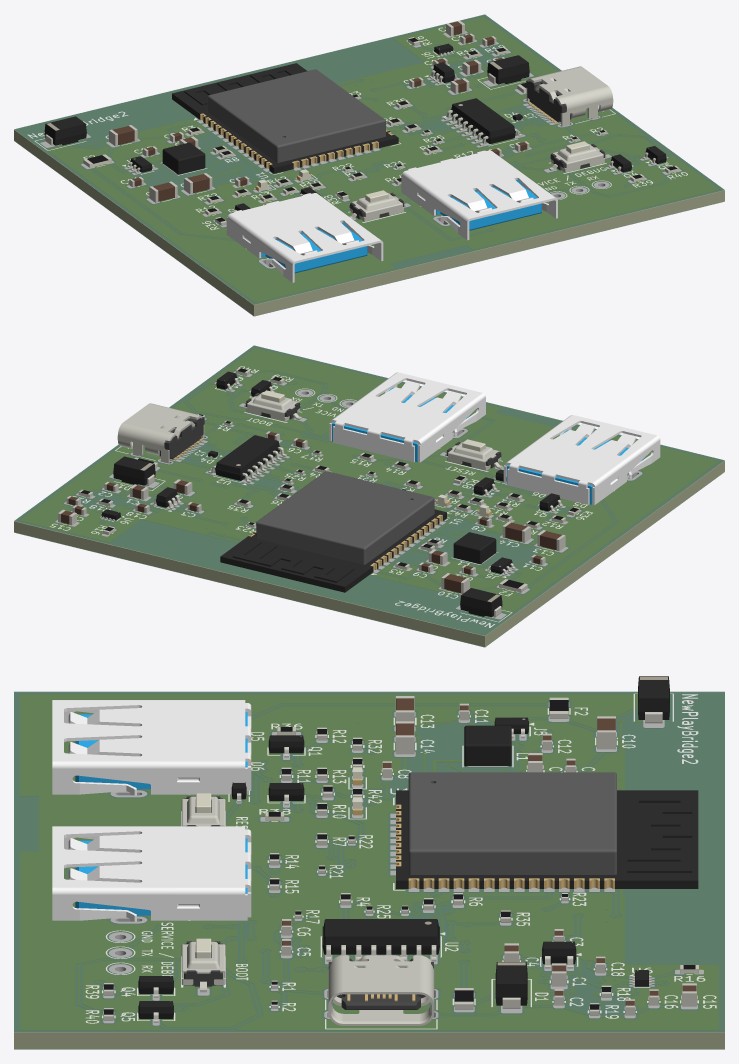
Rendered from board.glb.
The picture shows the model from 3 angles, top to bottom: view 1: azimuth 30°, elevation 25°; view 2: azimuth 150°, elevation 25°; view 3: azimuth 270°, elevation 25°; orthographic projection. The views are drawn at different scales.
Visible parts, largest first — view 1: =>[0:1:1:53], =>[0:1:1:48], =>[0:1:1:55], =>[0:1:1:21] (×2), =>[0:1:1:47], =>[0:1:1:41], =>[0:1:1:49], =>[0:1:1:51], =>[0:1:1:3] (×2), =>[0:1:1:29], =>[0:1:1:25] (×2), =>[0:1:1:33] (+1 smaller); view 2: =>[0:1:1:53], =>[0:1:1:48], =>[0:1:1:55], =>[0:1:1:21] (×2), =>[0:1:1:47], =>[0:1:1:51], =>[0:1:1:41], =>[0:1:1:49], =>[0:1:1:3] (×2), =>[0:1:1:29], =>[0:1:1:25] (×2), =>[0:1:1:33] (+1 smaller); view 3: =>[0:1:1:53], =>[0:1:1:48], =>[0:1:1:55], =>[0:1:1:21] (×2), =>[0:1:1:47], =>[0:1:1:51], =>[0:1:1:41], =>[0:1:1:49], =>[0:1:1:29], =>[0:1:1:3] (×2), =>[0:1:1:25] (×2), =>[0:1:1:11] (×4) (+4 smaller).
Part boxes in pixels (x1,y1,x2,y2): =>[0:1:1:53]: [14, 14, 724, 304]; =>[0:1:1:48]: [47, 17, 718, 302]; =>[0:1:1:55]: [14, 15, 724, 315]; =>[0:1:1:21] (×2): [226, 150, 557, 282]; =>[0:1:1:47]: [172, 63, 398, 173]; =>[0:1:1:41]: [526, 66, 613, 126]; =>[0:1:1:49]: [40, 31, 681, 268]; =>[0:1:1:51]: [27, 27, 687, 249]; =>[0:1:1:3] (×2): [349, 141, 606, 221]; =>[0:1:1:29]: [444, 98, 522, 146]; =>[0:1:1:25] (×2): [44, 55, 529, 145]; =>[0:1:1:33]: [162, 142, 205, 174]; =>[0:1:1:53]: [14, 345, 724, 635]; =>[0:1:1:48]: [20, 348, 718, 613]; =>[0:1:1:55]: [14, 346, 724, 646]; =>[0:1:1:21] (×2): [329, 372, 660, 505]; =>[0:1:1:47]: [220, 471, 446, 592]; =>[0:1:1:51]: [49, 366, 614, 627]; =>[0:1:1:41]: [117, 403, 204, 463]; =>[0:1:1:49]: [55, 371, 642, 619]; =>[0:1:1:3] (×2): [244, 390, 502, 470]; =>[0:1:1:29]: [208, 435, 286, 483]; =>[0:1:1:25] (×2): [113, 456, 502, 617]; =>[0:1:1:33]: [453, 532, 496, 563]; =>[0:1:1:53]: [14, 691, 724, 1032]; =>[0:1:1:48]: [20, 695, 718, 1029]; =>[0:1:1:55]: [14, 693, 724, 1048]; =>[0:1:1:21] (×2): [52, 700, 251, 921]; =>[0:1:1:47]: [396, 772, 698, 888]; =>[0:1:1:51]: [85, 693, 716, 1029]; =>[0:1:1:41]: [328, 955, 434, 1025]; =>[0:1:1:49]: [103, 702, 703, 1025]; =>[0:1:1:29]: [322, 919, 439, 961]; =>[0:1:1:3] (×2): [181, 793, 225, 992]; =>[0:1:1:25] (×2): [495, 676, 669, 1008]; =>[0:1:1:11] (×4): [138, 735, 304, 1022].
Size of the model in its own units: 0.068 by 0.0104 by 0.06.
